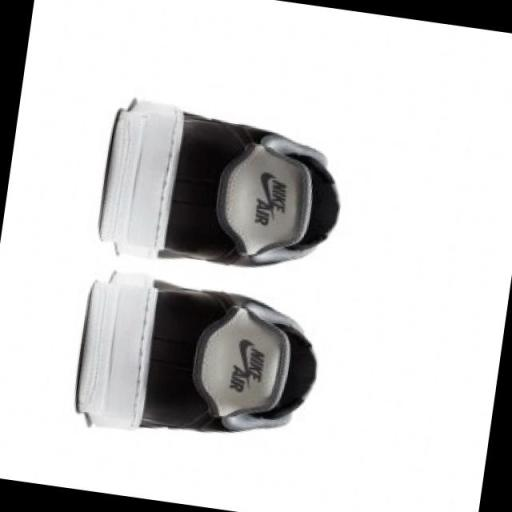Nike: (265, 178, 291, 216), (234, 339, 253, 374)
